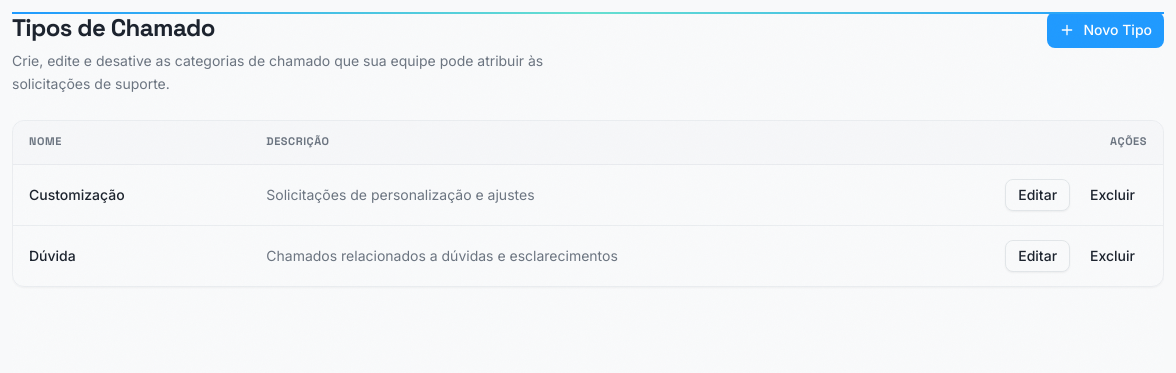
Test: TicketTypesPage › saves a new ticket type and adds it to the table
Click the button "Novo Tipo" at x=1106, y=30, box left=1048, top=12, right=1164, bottom=48
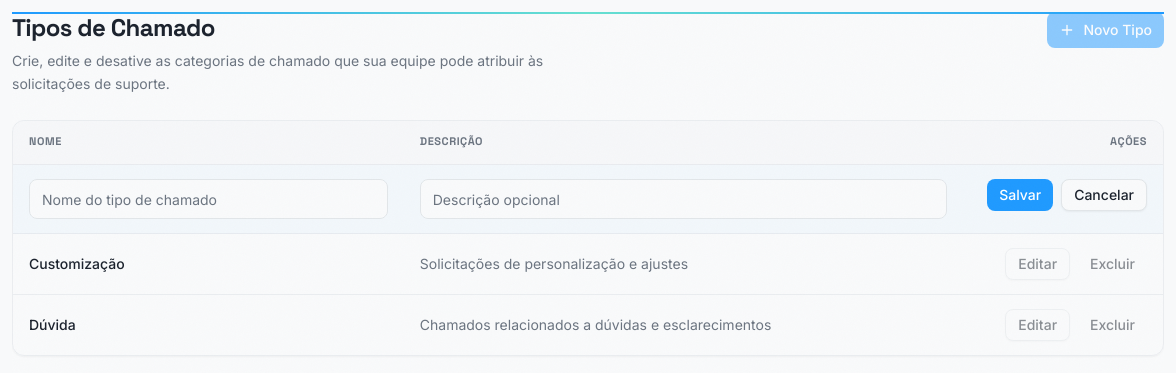
Type "Financeiro" into the field with placeholder "Nome do tipo de chamado" at x=208, y=199, box left=29, top=179, right=388, bottom=219
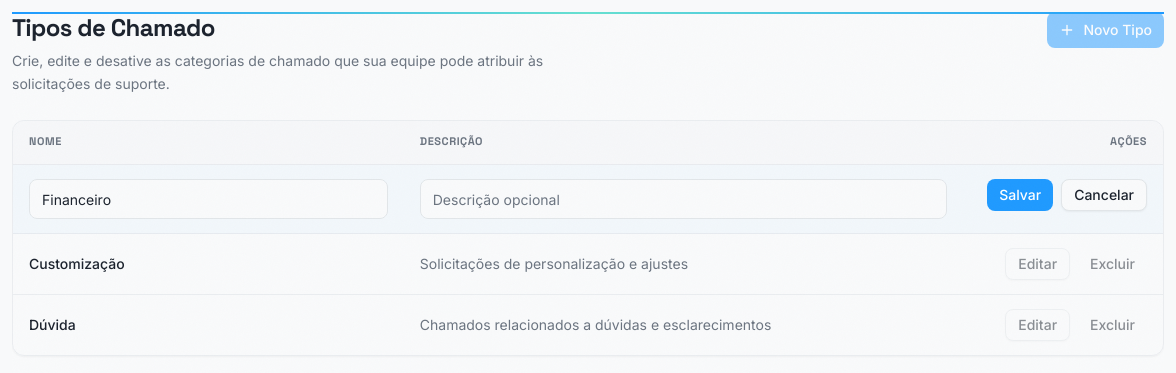
Type "Fluxos e regras financeiras" into the field with placeholder "Descrição opcional" at x=683, y=199, box left=420, top=179, right=947, bottom=219
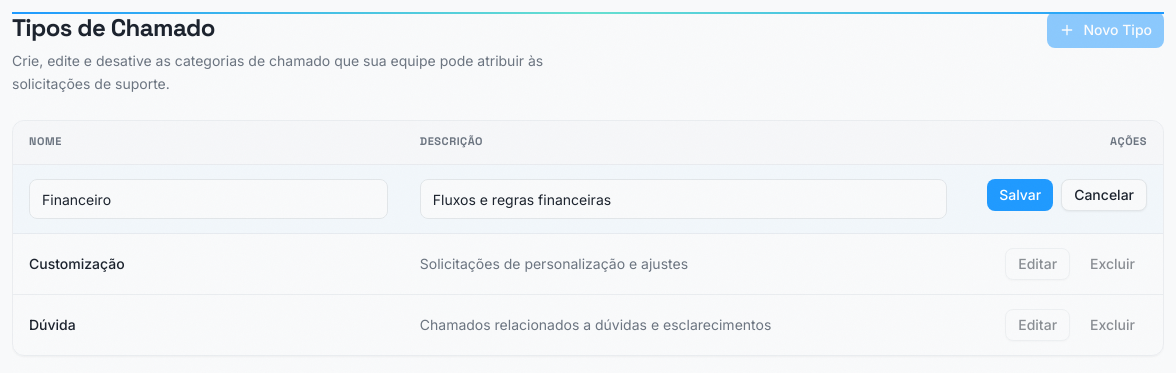
Click the button "Salvar" at x=1020, y=195, box left=987, top=179, right=1053, bottom=211
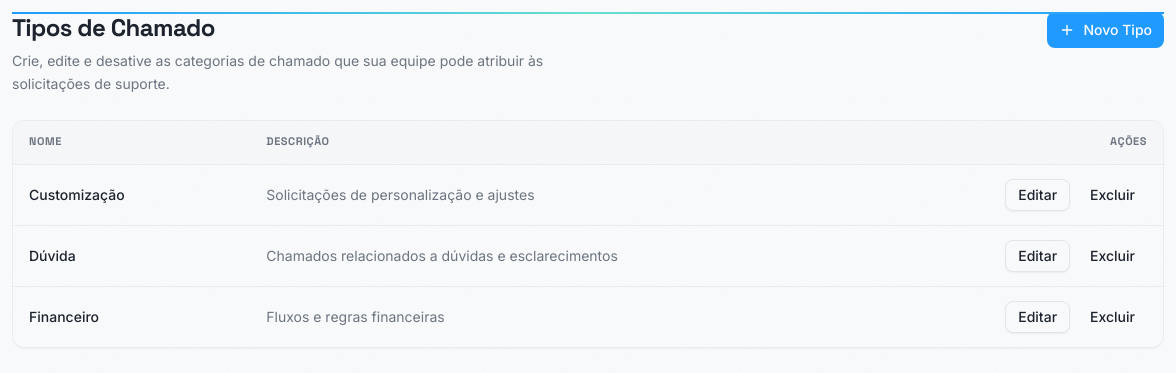
Now the text "Financeiro" is shown, box left=13, top=286, right=250, bottom=347
